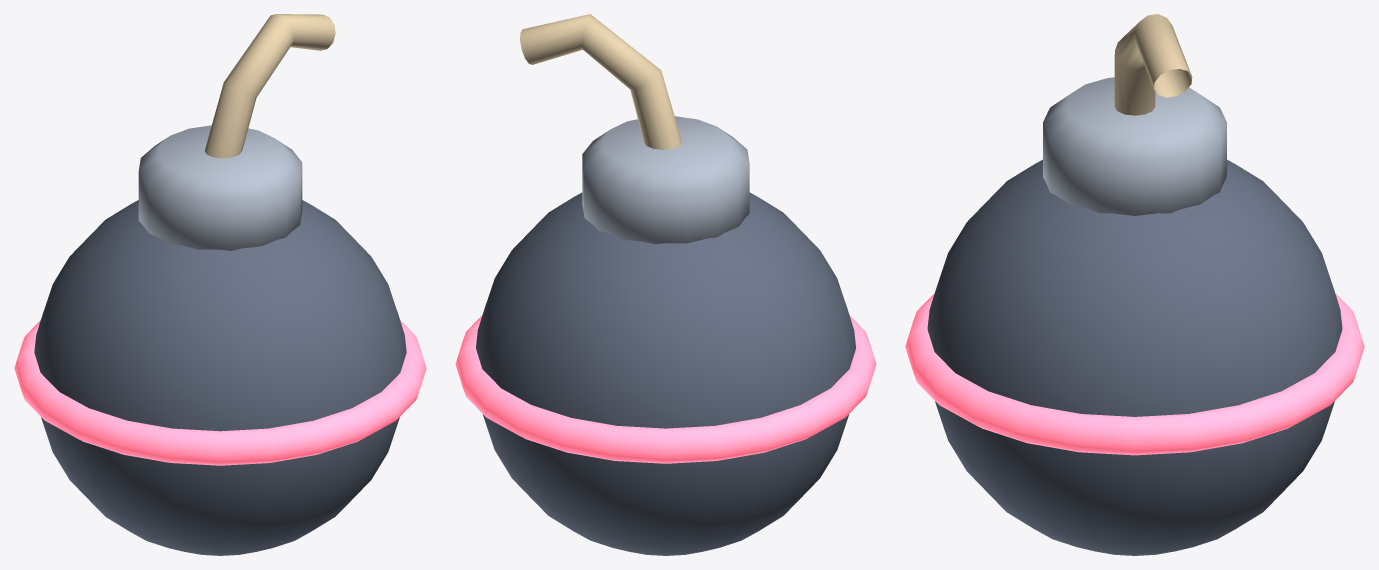
The model's file is bomb.glb.
The picture shows the model from 3 angles, left to right: view 1: azimuth 30°, elevation 25°; view 2: azimuth 150°, elevation 25°; view 3: azimuth 270°, elevation 25°; orthographic projection. The views are drawn at different scales.
Visible parts, largest first — view 1: Sphere, BombCollar, Torus, BombFuse; view 2: Sphere, BombCollar, Torus, BombFuse; view 3: Sphere, BombCollar, Torus, BombFuse.
Boxes of the visible parts, box(x1,y1,x2,y2) form: Sphere: box(34, 200, 406, 555); BombCollar: box(138, 125, 302, 250); Torus: box(14, 320, 426, 465); BombFuse: box(204, 14, 335, 158); Sphere: box(476, 192, 855, 555); BombCollar: box(582, 116, 749, 244); Torus: box(455, 315, 876, 463); BombFuse: box(520, 14, 681, 149); Sphere: box(927, 159, 1342, 555); BombCollar: box(1043, 77, 1226, 215); Torus: box(905, 293, 1364, 455); BombFuse: box(1114, 14, 1192, 115).
Bounding box in the file's own units: 0.724 × 0.9708 × 0.724.
